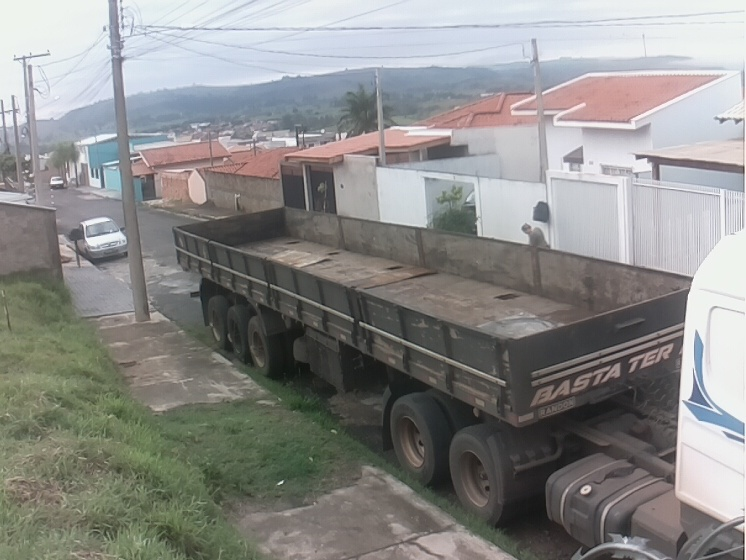person: (521, 223, 549, 254)
